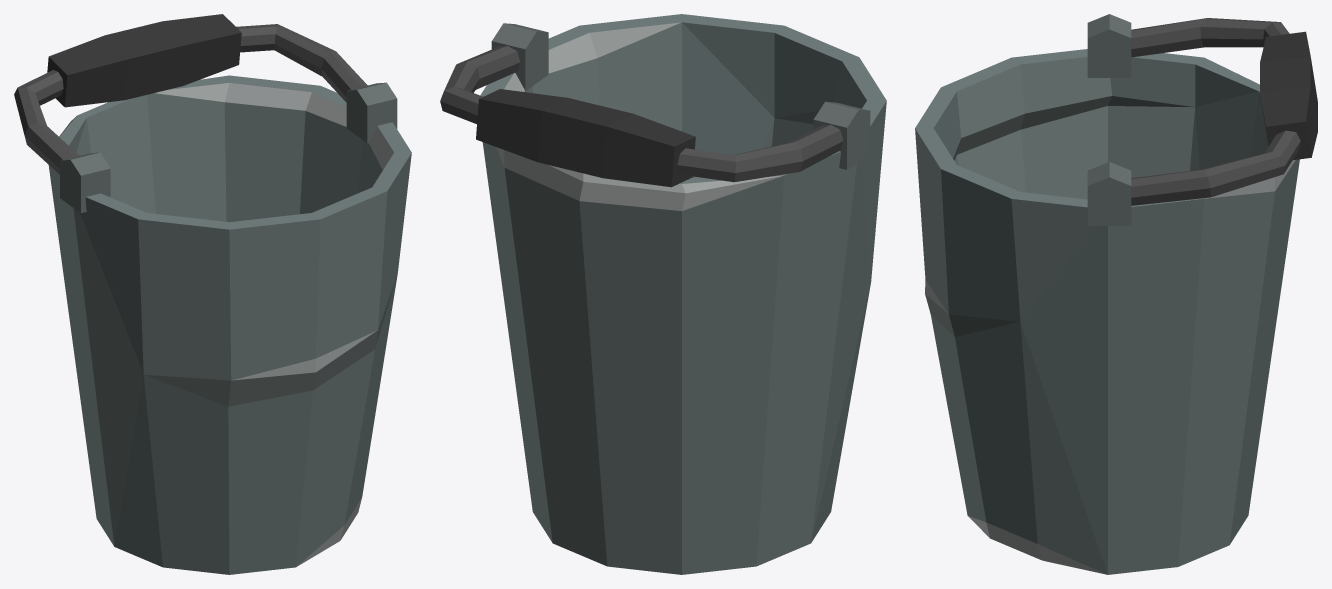
Rendered from mesh_bucket.fbx.
3 views of the same model, side by side, from view 1: azimuth 30°, elevation 25°; view 2: azimuth 150°, elevation 25°; view 3: azimuth 270°, elevation 25° (orthographic). The views are drawn at different scales.
Parts seen in each view (by area): view 1: mesh_bucket; view 2: mesh_bucket; view 3: mesh_bucket.
Boxes of the visible parts, x1,y1,x2,y2 form: mesh_bucket: (14, 14, 411, 574); mesh_bucket: (440, 14, 886, 574); mesh_bucket: (915, 14, 1317, 574).
Size of the model in its own units: 0.2712 by 0.3443 by 0.2828.
